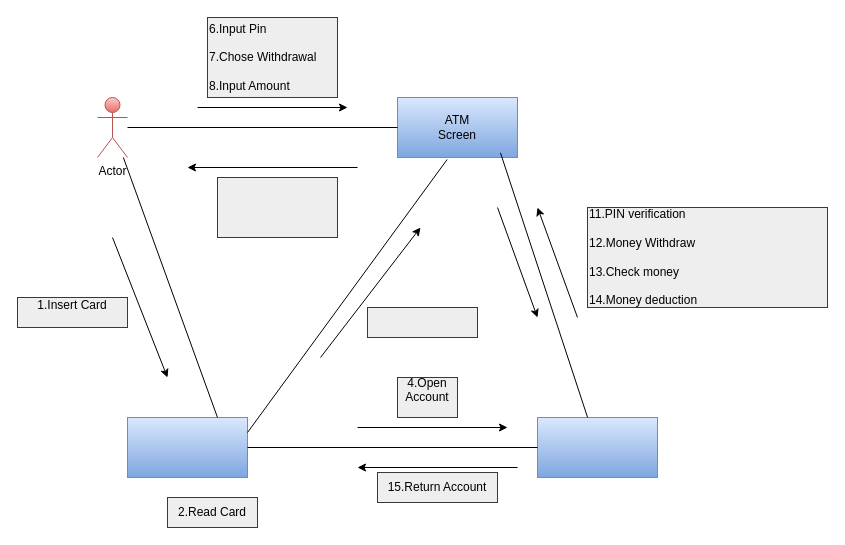
This 845x545 diagram has some shape labels left out. The shapes that lost their labels are listed below. From the top down, each one's box as (x1, y1, x2, y2) in pixels, then its label:
(216, 176, 338, 238): 9.Prompt Input Pin 10.Prompt Amount
(366, 306, 478, 338): 3.Screen Initialization
(126, 416, 248, 478): CARD READER
(536, 416, 658, 478): ACCOUNT
